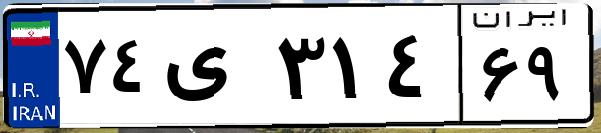1: (330, 28, 385, 110)
3: (270, 28, 330, 110)
4: (385, 28, 445, 110), (110, 28, 158, 98)
6: (475, 38, 525, 113)
7: (57, 26, 110, 100)
9: (525, 38, 570, 115)
ی: (158, 20, 270, 120)
